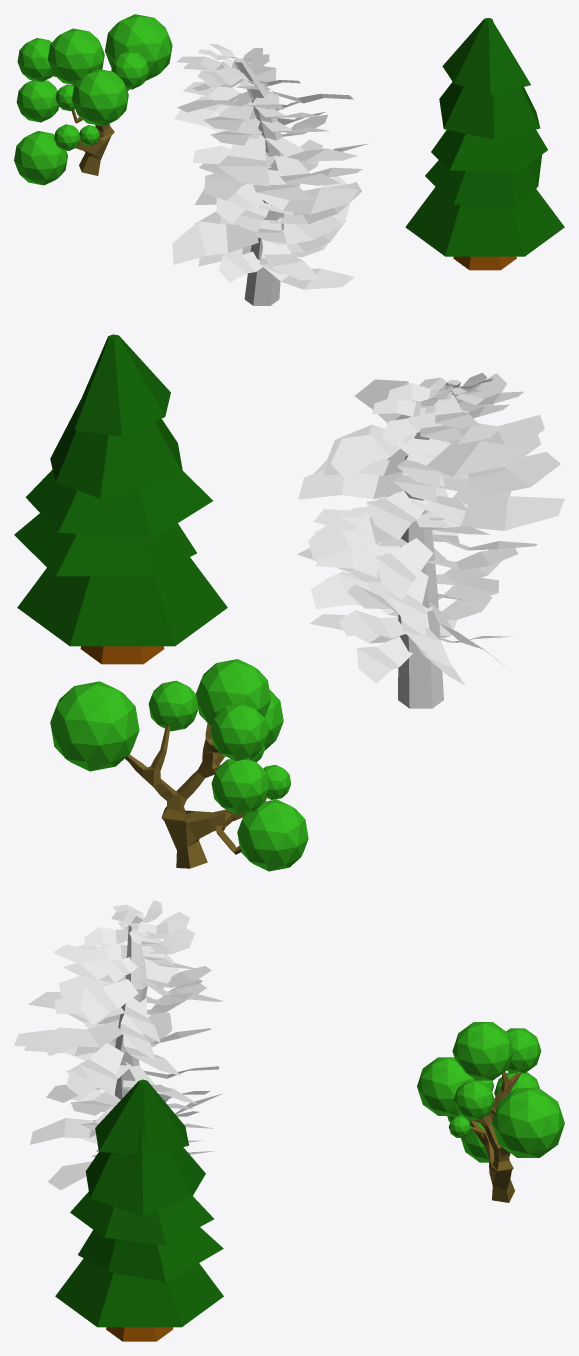
The model's file is treemodels.fbx.
3 renders of one model, top to bottom at view 1: azimuth 30°, elevation 25°; view 2: azimuth 150°, elevation 25°; view 3: azimuth 270°, elevation 25°, orthographic. The views are drawn at different scales.
Visible parts, largest first — view 1: Cube, Cylinder.001, Cylinder.004, Cylinder.005, Cylinder.002, Cylinder.003, Cylinder.006, Plane.009, Plane.035, Plane.023, Plane.011, Plane.010 (+21 smaller); view 2: Cube, Cylinder.001, Cylinder.003, Cylinder.004, Cylinder.002, Cylinder.005, Cylinder.006, Plane.031, Plane.047, Plane.035, Plane.033, Plane.021 (+27 smaller); view 3: Cube, Cylinder.001, Cylinder.004, Cylinder.002, Cylinder.005, Cylinder.003, Cylinder.006, Plane.032, Plane.045, Plane.029, Plane.010, Plane.044 (+15 smaller).
Boxes of the visible parts, x1=… form: Cube: x1=14, y1=14, x2=172, y2=185; Cylinder.001: x1=405, y1=187, x2=564, y2=256; Cylinder.004: x1=439, y1=82, x2=540, y2=139; Cylinder.005: x1=442, y1=18, x2=530, y2=94; Cylinder.002: x1=425, y1=155, x2=541, y2=208; Cylinder.003: x1=431, y1=129, x2=547, y2=171; Cylinder.006: x1=233, y1=58, x2=284, y2=305; Plane.009: x1=172, y1=221, x2=258, y2=264; Plane.035: x1=217, y1=134, x2=269, y2=186; Plane.023: x1=250, y1=187, x2=358, y2=214; Plane.011: x1=273, y1=176, x2=350, y2=246; Plane.010: x1=262, y1=239, x2=320, y2=280; Cube: x1=50, y1=659, x2=308, y2=871; Cylinder.001: x1=17, y1=557, x2=227, y2=646; Cylinder.003: x1=25, y1=469, x2=213, y2=538; Cylinder.004: x1=50, y1=400, x2=183, y2=498; Cylinder.002: x1=14, y1=513, x2=196, y2=576; Cylinder.005: x1=74, y1=334, x2=170, y2=436; Cylinder.006: x1=398, y1=380, x2=460, y2=708; Plane.031: x1=410, y1=496, x2=564, y2=530; Plane.047: x1=395, y1=437, x2=525, y2=476; Plane.035: x1=436, y1=452, x2=560, y2=496; Plane.033: x1=298, y1=469, x2=403, y2=499; Plane.021: x1=375, y1=538, x2=433, y2=600; Cube: x1=417, y1=1022, x2=564, y2=1202; Cylinder.001: x1=55, y1=1258, x2=223, y2=1327; Cylinder.004: x1=85, y1=1126, x2=205, y2=1216; Cylinder.002: x1=78, y1=1227, x2=223, y2=1282; Cylinder.005: x1=95, y1=1079, x2=188, y2=1154; Cylinder.003: x1=70, y1=1191, x2=213, y2=1245; Cylinder.006: x1=115, y1=923, x2=147, y2=1099; Plane.032: x1=40, y1=1020, x2=122, y2=1055; Plane.045: x1=80, y1=979, x2=138, y2=1024; Plane.029: x1=79, y1=1043, x2=123, y2=1096; Plane.010: x1=30, y1=1118, x2=96, y2=1144; Plane.044: x1=53, y1=944, x2=133, y2=983.
Size of the model in its own units: 3194 by 2187 by 3836.
